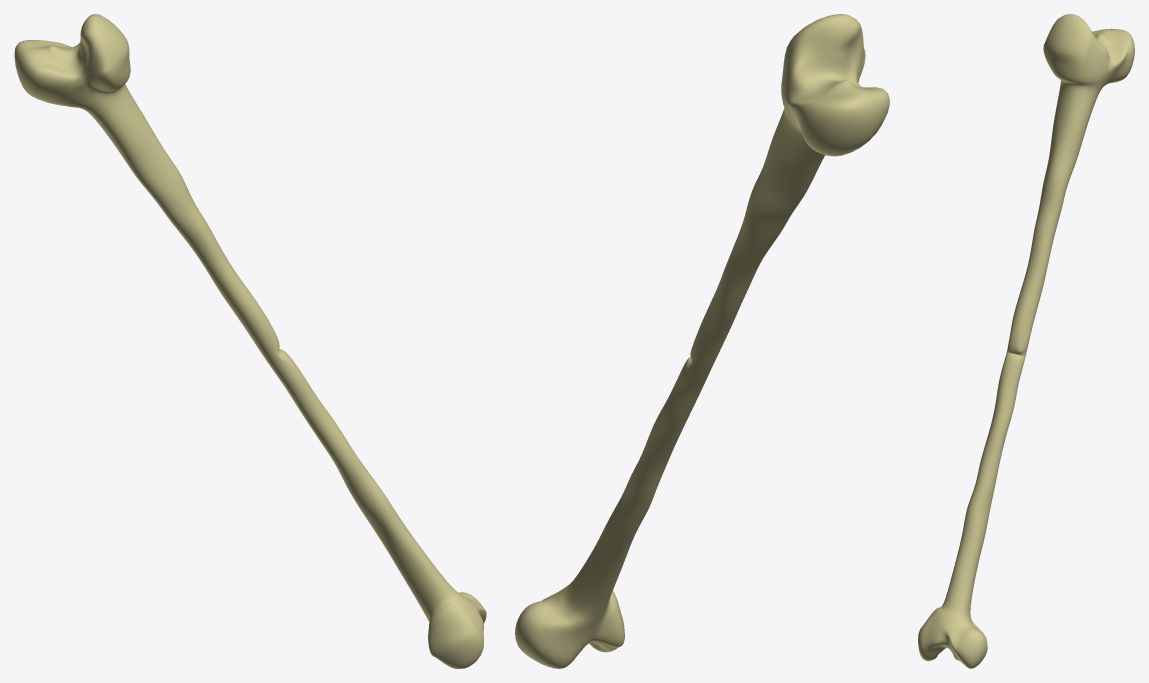
Rendered from Bone.dae.
3 renders of one model, left to right at view 1: azimuth 30°, elevation 25°; view 2: azimuth 150°, elevation 25°; view 3: azimuth 270°, elevation 25°, orthographic. The views are drawn at different scales.
Parts seen in each view (by area): view 1: bone_Kost01; view 2: bone_Kost01; view 3: bone_Kost01.
Boxes of the visible parts, <box> form: bone_Kost01: <box>14,14,486,668</box>; bone_Kost01: <box>515,14,889,668</box>; bone_Kost01: <box>918,14,1134,668</box>.
Bounding box in the file's own units: 16.86 × 27.75 × 10.23.
